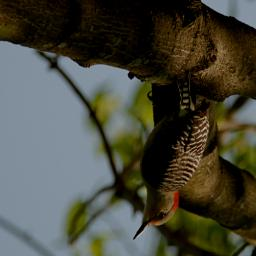Woodpecker: (132, 71, 210, 240)
